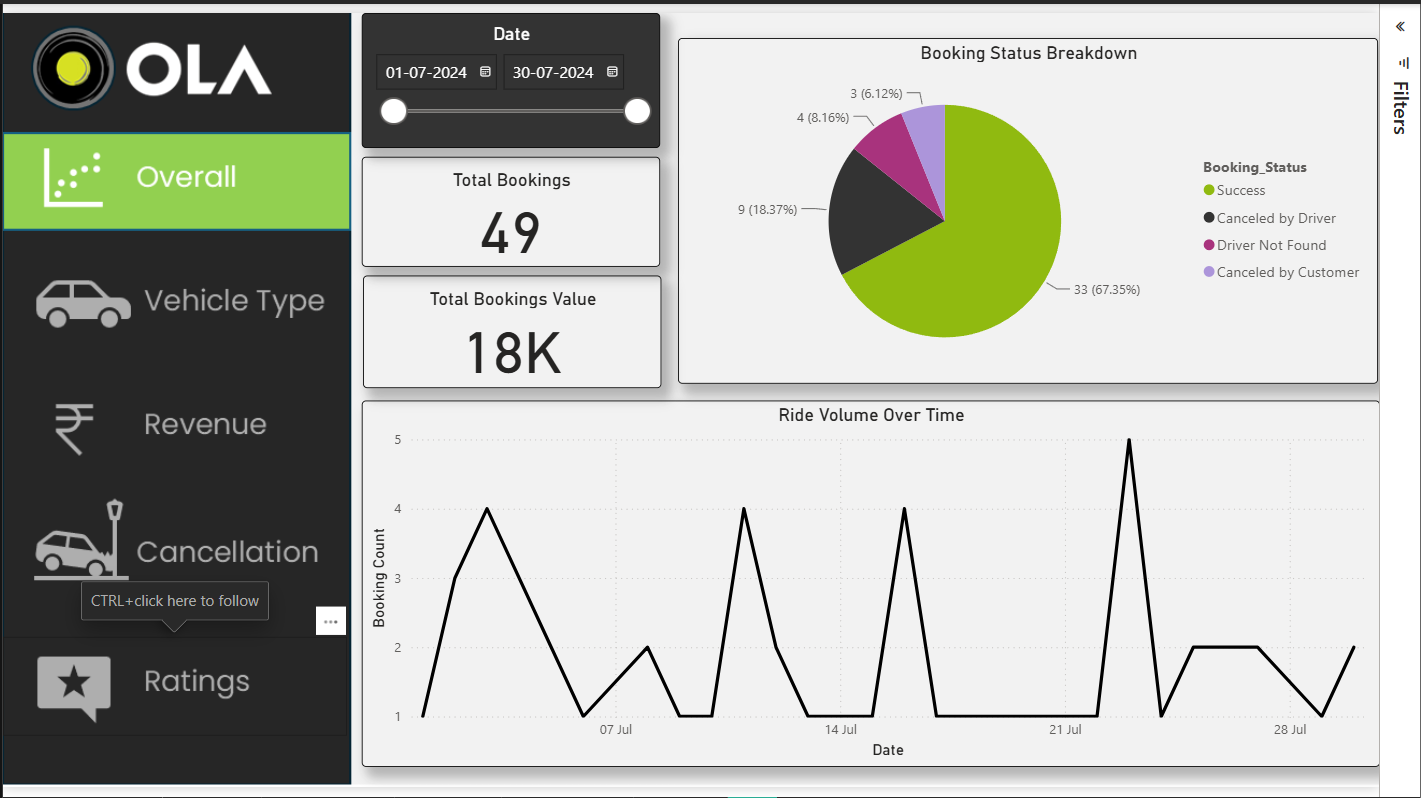

This screenshot's page, from the dashboard's own definition file:
{"tool":"powerbi","page":{"name":"Overall","canvas":[1280,720],"ordinal":0},"visuals":[{"type":"actionButton","box":[0,219.6,320.2,92],"z":0},{"type":"actionButton","box":[0,341.1,320.2,92],"z":1000},{"type":"actionButton","box":[0,446.6,320.2,92],"z":2000},{"type":"actionButton","box":[0,580.4,320.2,92],"z":3000},{"type":"lineChart","title":"Ride Volume Over Time","fields":{"Y":["CountNonNull(Bookings-20000-Rows.Booking_ID)"],"Category":["Bookings-20000-Rows.Date"]},"box":[333.3,360.5,946.9,340.7],"z":4000},{"type":"pieChart","title":"Booking Status Breakdown","fields":{"Category":["Bookings-20000-Rows.Booking_Status"],"Y":["CountNonNull(Bookings-20000-Rows.Booking_Status)"]},"box":[628.2,23.3,651.5,321.5],"z":5000},{"type":"slicer","title":"Date","fields":{"Values":["Bookings-20000-Rows.Date"]},"box":[333.3,0,277.8,125.9],"z":6000},{"type":"card","title":"Total Bookings","fields":{"Values":["Count(Bookings-20000-Rows.Booking_ID)"]},"box":[333.3,133.3,277.8,102.5],"z":7000},{"type":"card","title":"Total Bookings Value","fields":{"Values":["Sum(Bookings-20000-Rows.Booking_Value)"]},"box":[334.6,244.4,277.8,104.9],"z":8000}]}

Visuals, with their boxes on the page's 1280x720 design canvas (x1, y1, x2, y2). These are canvas units, not pixel positions in the 1421x798 screenshot, which may show the page scaled, cropped or inside an application window:
actionButton: 0/220/320/312
actionButton: 0/341/320/433
actionButton: 0/447/320/539
actionButton: 0/580/320/672
"Ride Volume Over Time" lineChart: 333/360/1280/701
"Booking Status Breakdown" pieChart: 628/23/1280/345
"Date" slicer: 333/0/611/126
"Total Bookings" card: 333/133/611/236
"Total Bookings Value" card: 335/244/612/349
